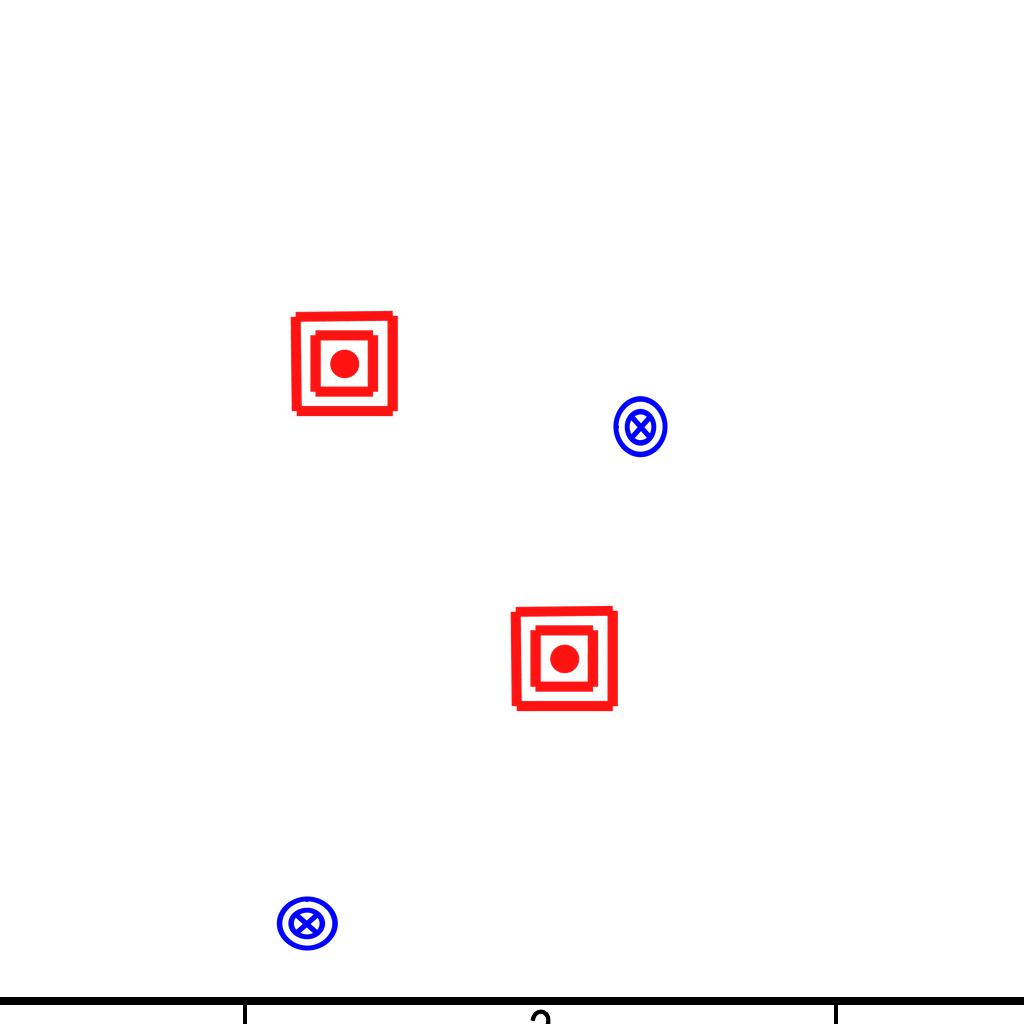NAM-Nichtautomatischer_Melder: (288, 307, 401, 420), (508, 602, 621, 715)
Taster_beleuchtet: (608, 394, 674, 460), (274, 891, 340, 957)
